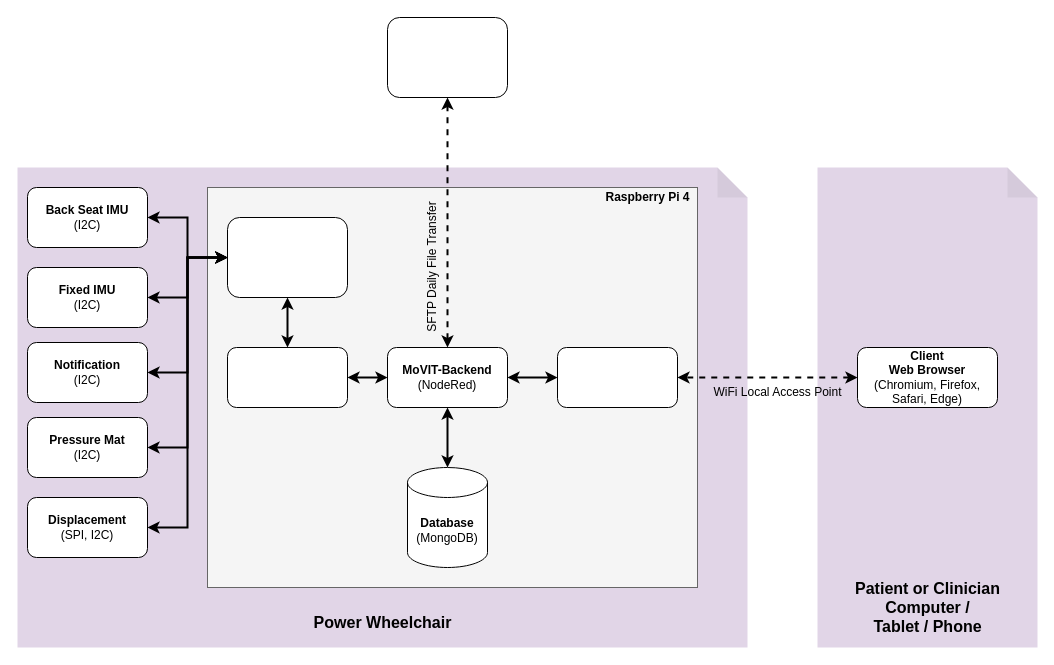
This 1054x665 diagram has some shape labels left out. Here are the shapes that lost their labels. From the top down, the centre of each, then its label:
the point at 447,57: Cloud Infrastructure (TelASK)
the point at 287,257: MoVIT-Detect FSM Logic Sensors / Actuators (C++)
the point at 287,377: MQTT Broker (Mosquitto)
the point at 617,377: MoVIT-Frontend (Node.js + REACT)
